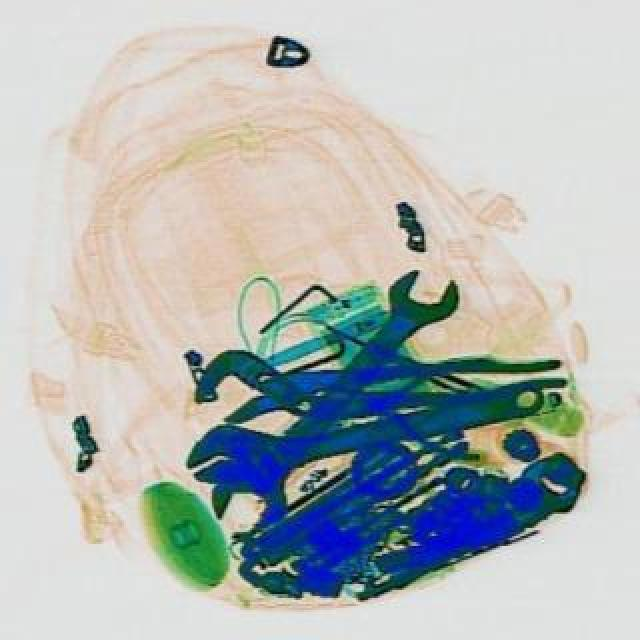scissors: (196, 252, 468, 544), (174, 356, 550, 504)
